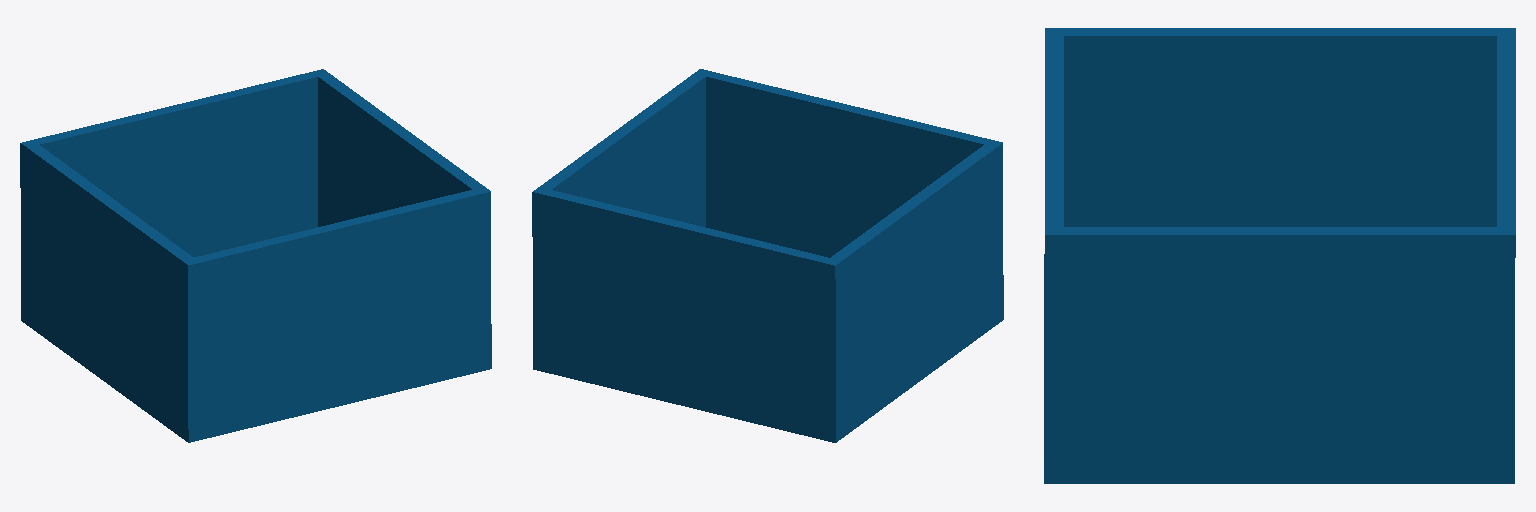
The robot description file, URDF, robot "bag":
<?xml version="0.0" ?>
<robot name="bag">
  <link name="baseLink">
    <contact>
      <lateral_friction value="1.0"/>
      <inertia_scaling value="3.0"/>
    </contact>
    <inertial>
      <origin rpy="0 0 0" xyz="0 0 0"/>
       <mass value=".2"/>
       <inertia ixx="0.1" ixy="0" ixz="0" iyy="0.1" iyz="0" izz="0.1"/>
    </inertial>
    <visual>
      <origin rpy="1.57 0 0" xyz="0 0 0.08"/>
      <geometry>
        <mesh filename="bag2.obj" scale="0.5 0.7 0.8"/>
      </geometry>
      <material name="brown">
        <color rgba="0.08 0.4 0.58 0.6"/>
      </material>
    </visual>
    <collision>
      <origin rpy="1.57 0 0" xyz="0 0 0.08"/>
      <geometry>
       <!-- <mesh filename="bag2.obj" scale="1 1 1"/> -->
        <mesh filename="bag_vhacd.obj" scale="0.5 0.7 0.8"/>

        <!-- <box size="0.5 0.3 0.2"/> -->
      </geometry>
    </collision>
  </link>
</robot>

--- Render facts (derived) ---
Views: 3 orthographic renders of the robot side by side, from view 1: azimuth 30°, elevation 25°; view 2: azimuth 150°, elevation 25°; view 3: azimuth 270°, elevation 25°.
Robot: bag — 1 links, 0 joints (none); root link baseLink; default pose: every joint at zero.
Links seen in each view (by area): view 1: baseLink; view 2: baseLink; view 3: baseLink.
Boxes of the visible links, left/top/right/bottom form: baseLink: left=20, top=69, right=491, bottom=442; baseLink: left=532, top=69, right=1003, bottom=442; baseLink: left=1044, top=28, right=1515, bottom=483.
Size in the robot's own frame: 0.25 by 0.2401 by 0.1402 metres.
1 mesh visuals loaded from 1 distinct referenced files (1 OBJ).